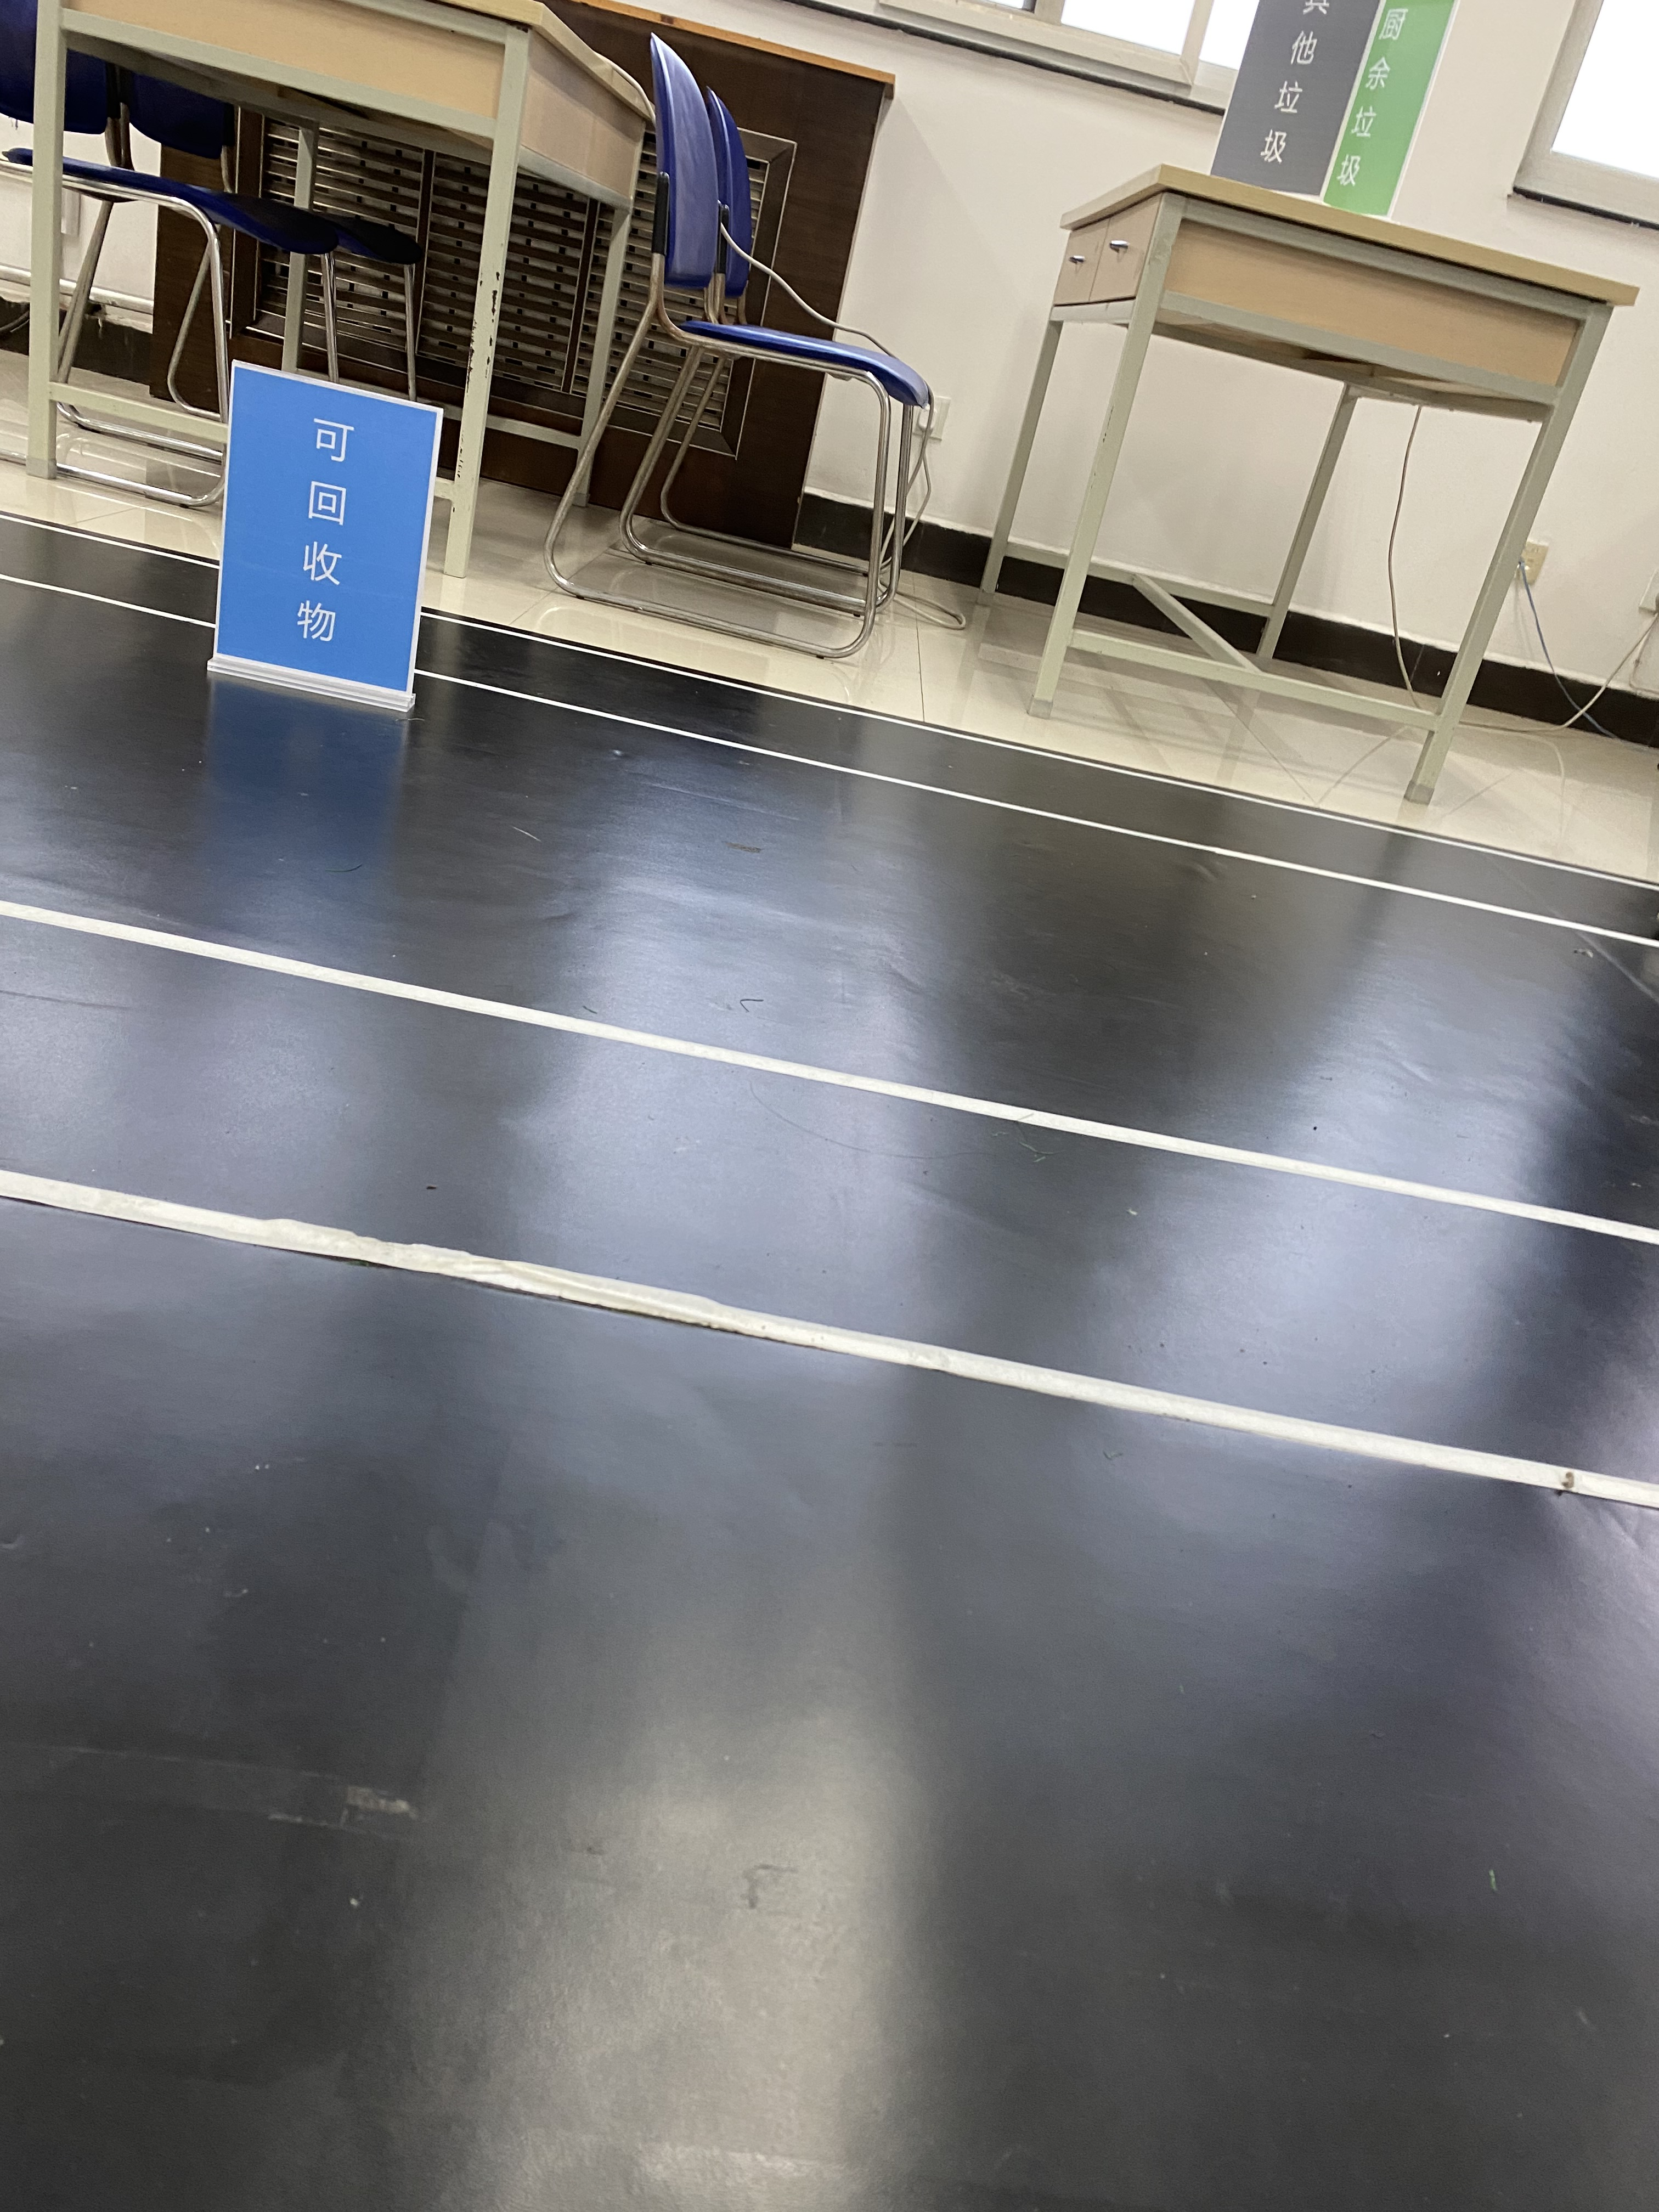blue: (242, 374, 408, 662)
